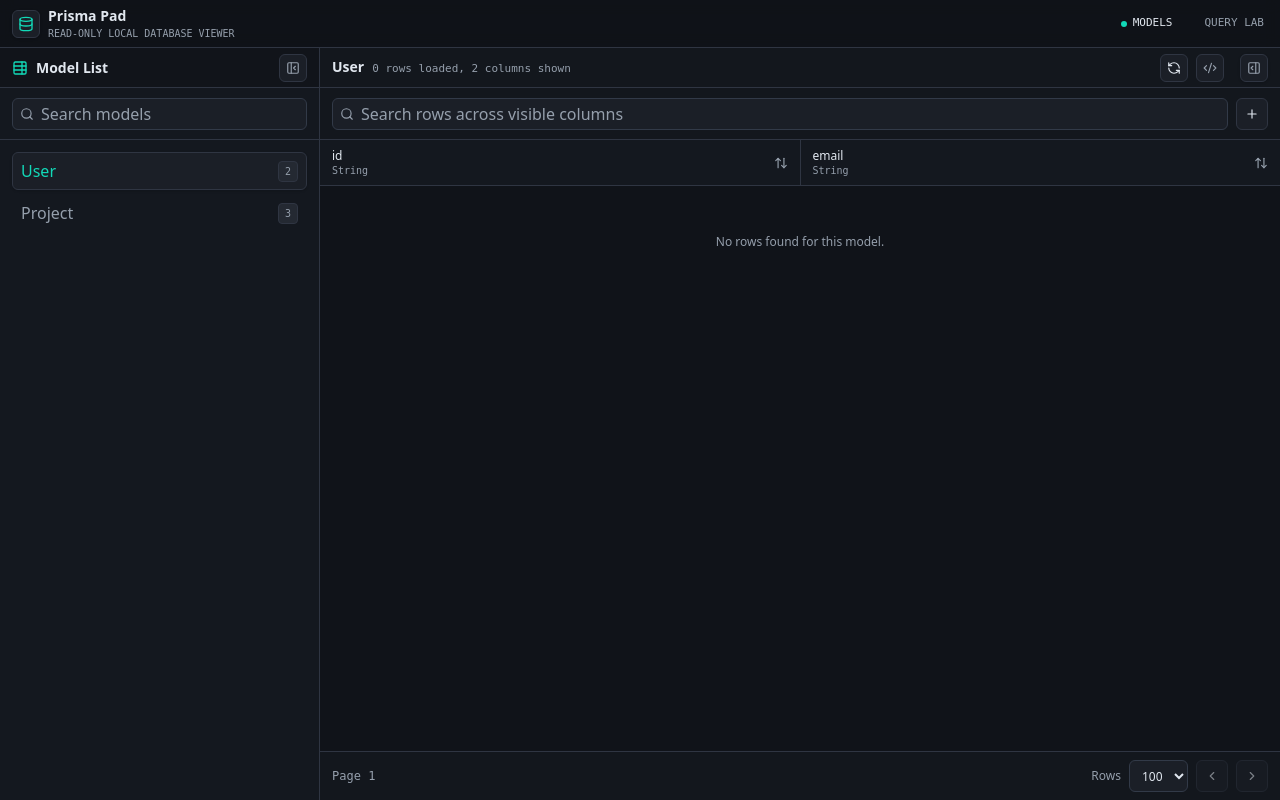
Test: App model sidebar › updates the selected model when a model is clicked
What coordinates should you click on to do the following:
click the button with aria-label "Project model, 3 columns"
I would click on:
 (47, 213)
Its box is [12,194,307,232].
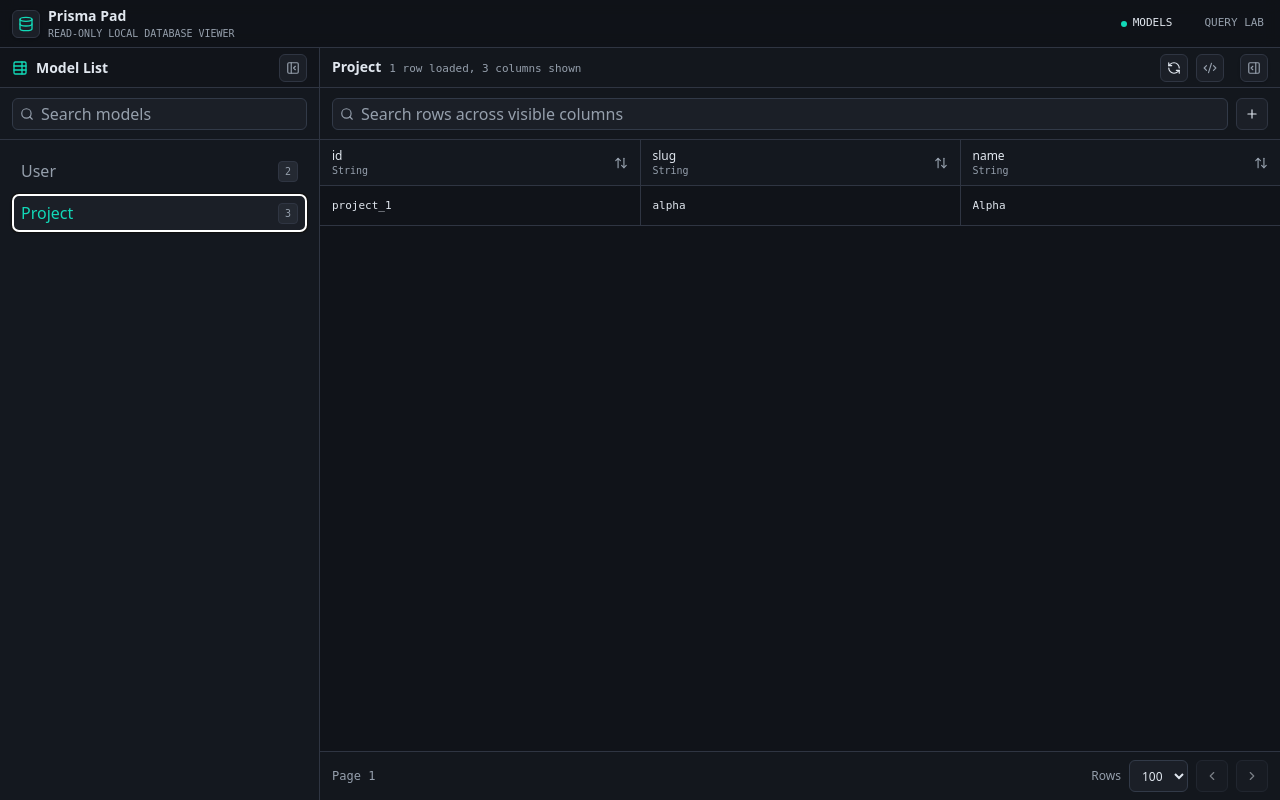
Now the heading "Project" is shown, box [332,57,381,77]
Now the text "1 row loaded, 3 columns shown" is shown, box [389,61,582,78]
Now the text "alpha" is shown, box [652,199,686,212]
